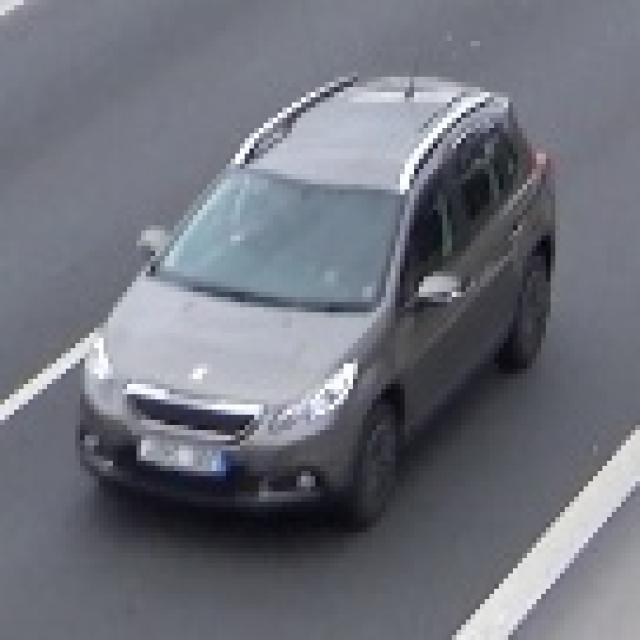SUV: (80, 77, 534, 513)
